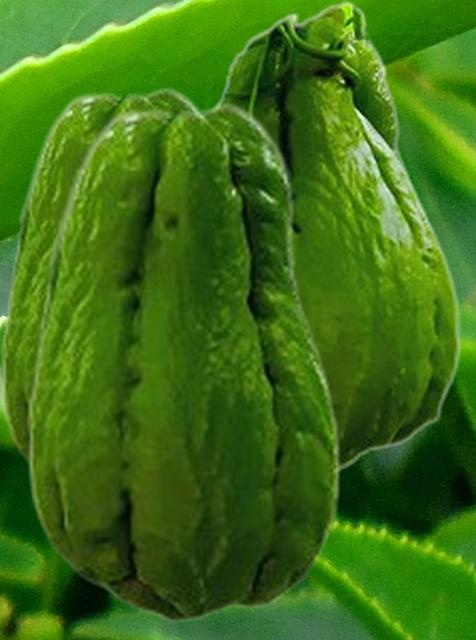sayote: (27, 101, 340, 623), (212, 0, 461, 473), (1, 86, 201, 466)
